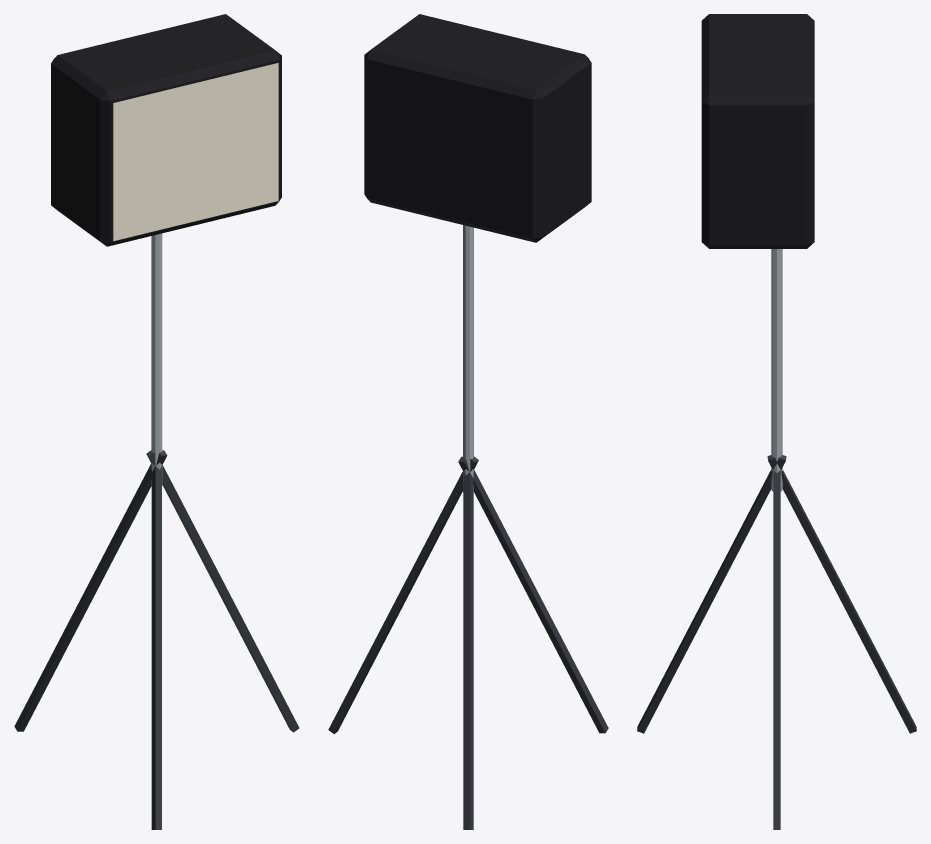
The model's file is studio_light.fbx.
3 renders of one model, left to right at view 1: azimuth 30°, elevation 25°; view 2: azimuth 150°, elevation 25°; view 3: azimuth 270°, elevation 25°, orthographic.
Parts seen in each view (by area): view 1: studio_light; view 2: studio_light; view 3: studio_light.
Boxes of the visible parts, <box> form: studio_light: <box>14,14,299,829</box>; studio_light: <box>328,14,608,829</box>; studio_light: <box>637,14,916,829</box>.
Bounding box in the file's own units: 0.7015 × 2.08 × 0.7425.
Materials: 2 (1 with a texture image).
